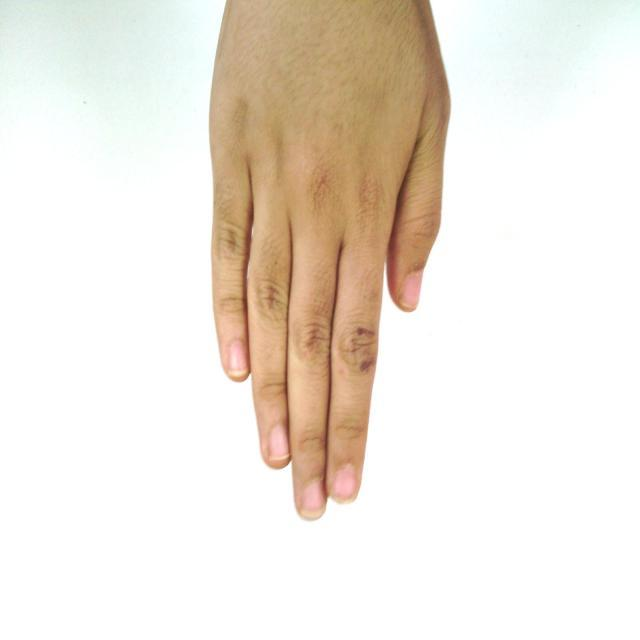Fingernail: (332, 466, 355, 501), (400, 273, 421, 310), (301, 482, 323, 515), (269, 426, 289, 459), (228, 343, 247, 373)
